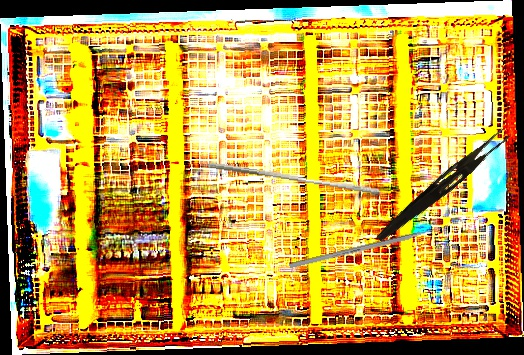Dressing Forceps: (374, 123, 511, 249)
Pusher: (288, 222, 454, 270), (205, 161, 382, 196)
